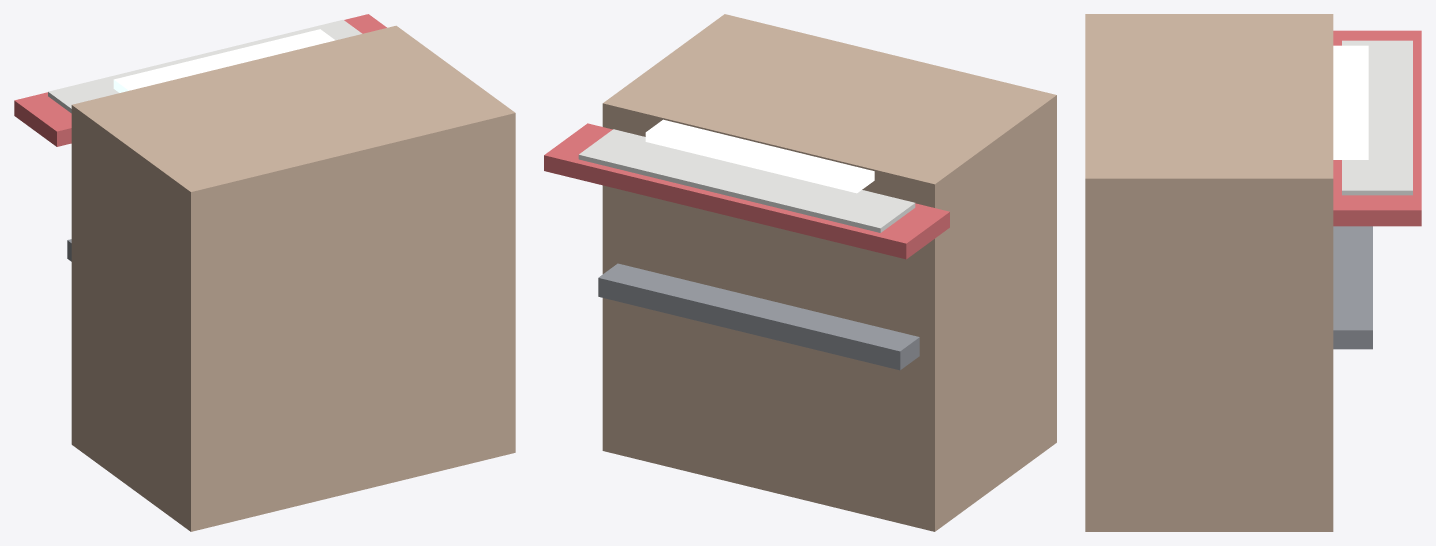
The model's file is prop_kiosk.glb.
3 renders of one model, left to right at view 1: azimuth 30°, elevation 25°; view 2: azimuth 150°, elevation 25°; view 3: azimuth 270°, elevation 25°, orthographic. The views are drawn at different scales.
Parts seen in each view (by area): view 1: PropKiosk_2, PropKiosk_12, PropKiosk_11, PropKiosk_10; view 2: PropKiosk_2, PropKiosk_6, PropKiosk_11, PropKiosk_10, PropKiosk_12; view 3: PropKiosk_2, PropKiosk_11, PropKiosk_10, PropKiosk_6, PropKiosk_12.
Boxes of the visible parts, box(x1,y1,x2,y2) form: PropKiosk_2: box(71, 25, 515, 531); PropKiosk_12: box(113, 29, 335, 92); PropKiosk_11: box(48, 20, 362, 113); PropKiosk_10: box(14, 14, 386, 146); PropKiosk_2: box(602, 14, 1056, 531); PropKiosk_6: box(598, 263, 919, 370); PropKiosk_11: box(578, 129, 915, 232); PropKiosk_10: box(544, 123, 949, 259); PropKiosk_12: box(645, 119, 874, 193); PropKiosk_2: box(1085, 14, 1333, 531); PropKiosk_11: box(1342, 40, 1412, 195); PropKiosk_10: box(1333, 30, 1421, 226); PropKiosk_6: box(1333, 226, 1372, 349); PropKiosk_12: box(1333, 45, 1368, 159).
Bounding box in the file's own units: 2.4 × 2.2 × 1.9.
